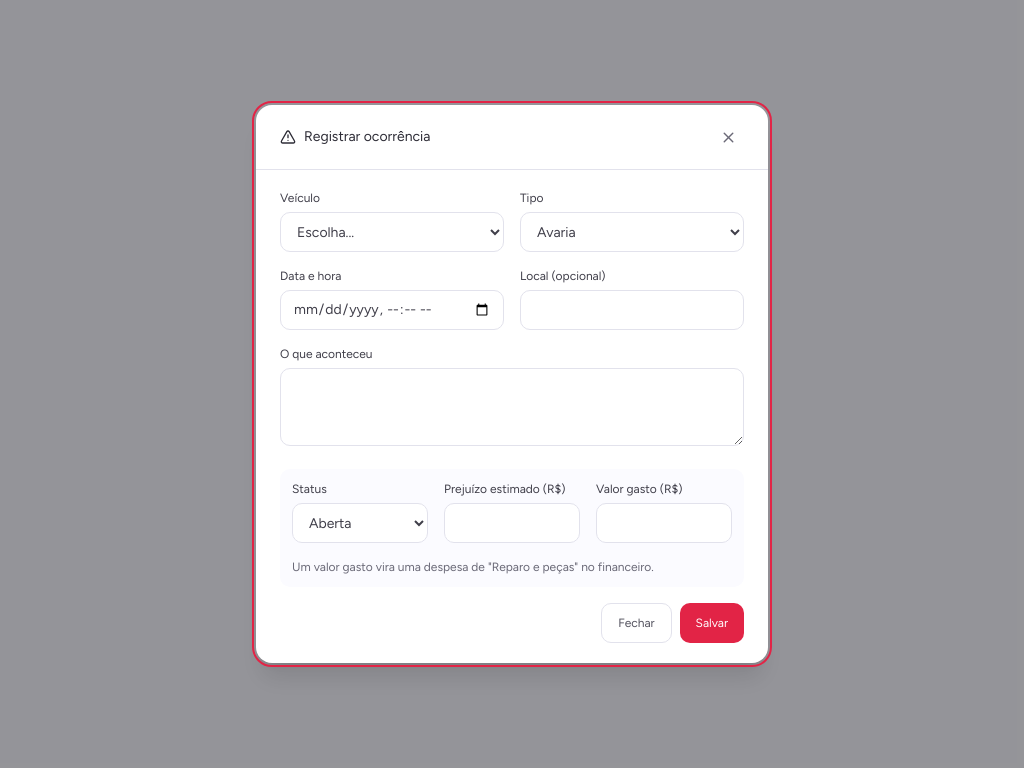
OcorrenciaModal: valores em reais › mostra como o valor será gravado, para conferir o "2.500"
In the field labelled "Prejuízo estimado (R$)": (512, 523) [444,503,580,543], type "2.500"
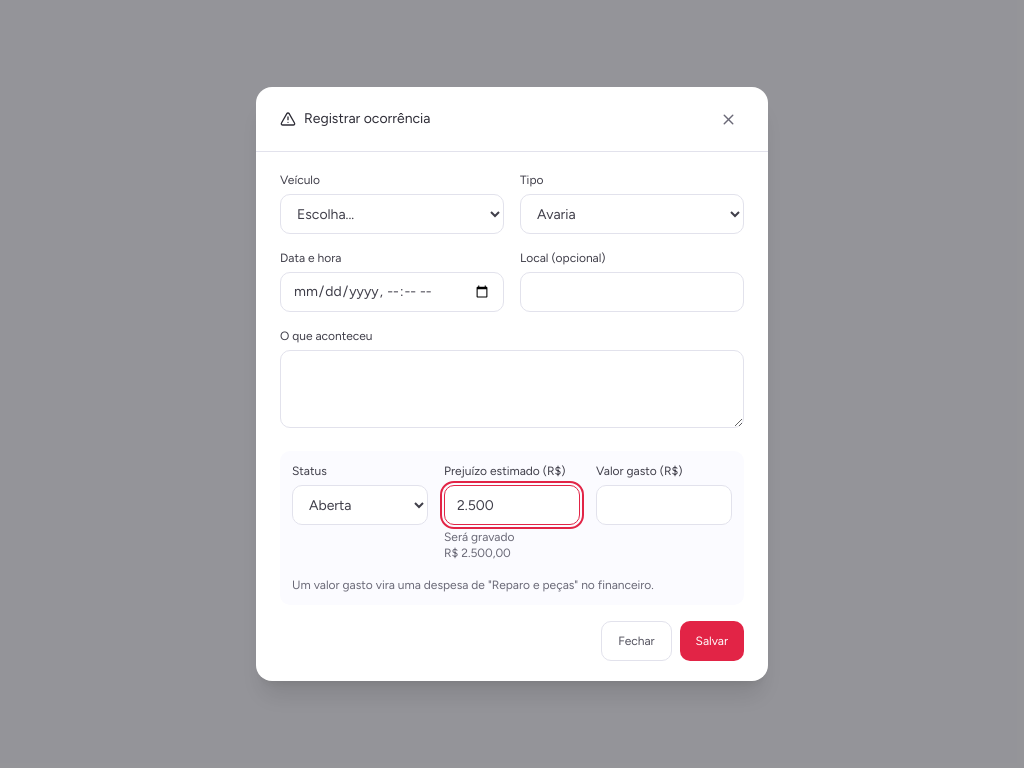
Result: the text "Será gravado R$ 2.500,00" is shown at [444,530,514,560]
